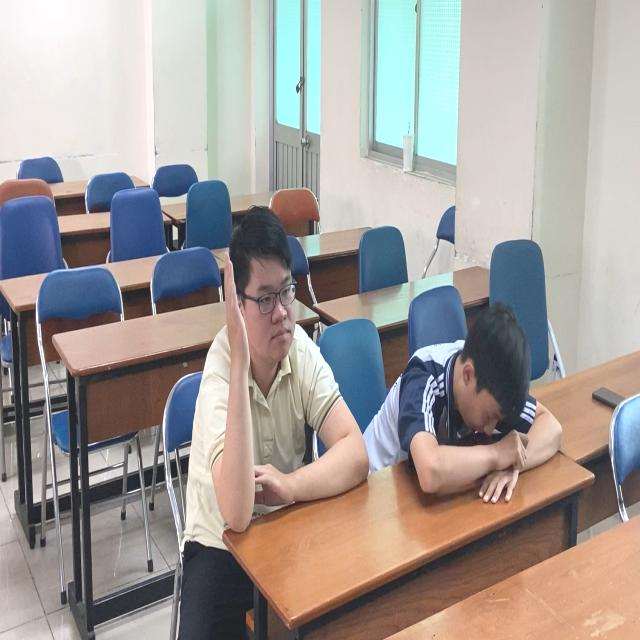raise_hand: (190, 201, 327, 554)
sleep: (357, 296, 569, 530)
